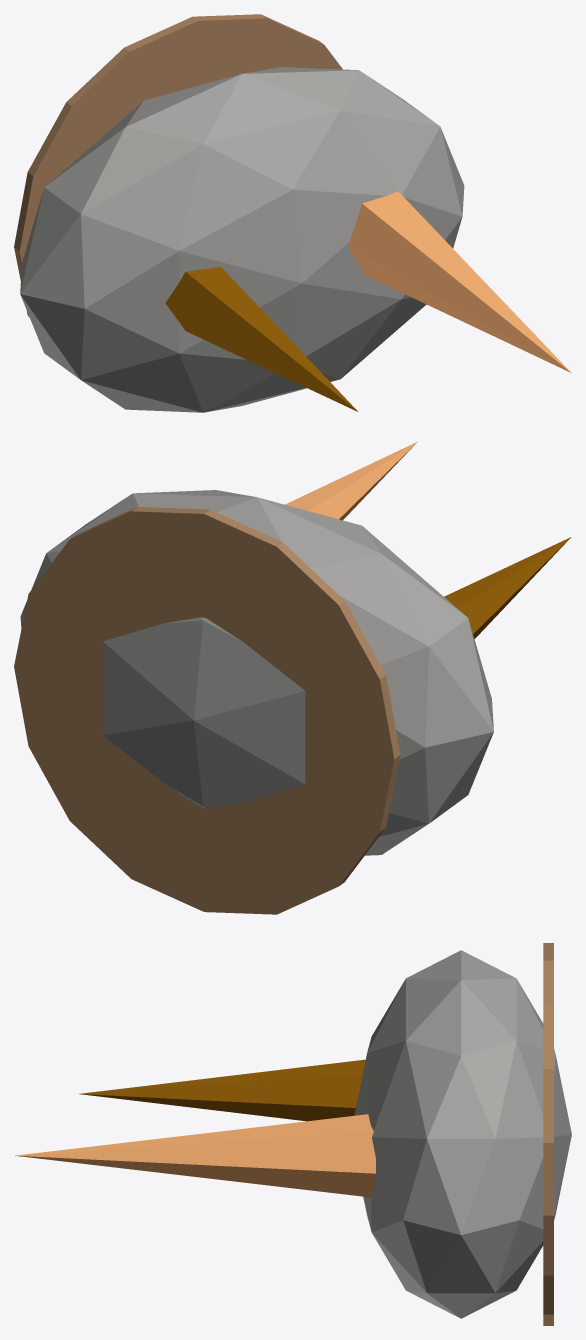
File: 01_landmark_anchor.glb
3 views of the same model, one above another, from view 1: azimuth 30°, elevation 25°; view 2: azimuth 150°, elevation 25°; view 3: azimuth 270°, elevation 25° (orthographic). The views are drawn at different scales.
Visible parts, largest first — view 1: eroded_rock, dust_ring, spike_right, spike_left; view 2: dust_ring, eroded_rock, spike_left, spike_right; view 3: eroded_rock, spike_right, spike_left, dust_ring.
Boxes of the visible parts, x1,y1,x2,y2 form: eroded_rock: (20,67,464,412); dust_ring: (14,14,342,317); spike_right: (348,191,570,372); spike_left: (165,267,357,411); dust_ring: (14,507,400,914); eroded_rock: (20,490,493,855); spike_left: (444,537,571,638); spike_right: (285,441,417,520); eroded_rock: (354,950,571,1318); spike_right: (15,1114,375,1197); spike_left: (79,1059,365,1121); dust_ring: (543,943,553,1325).
Size of the model in its own units: 2.24 by 1.8 by 2.62.
